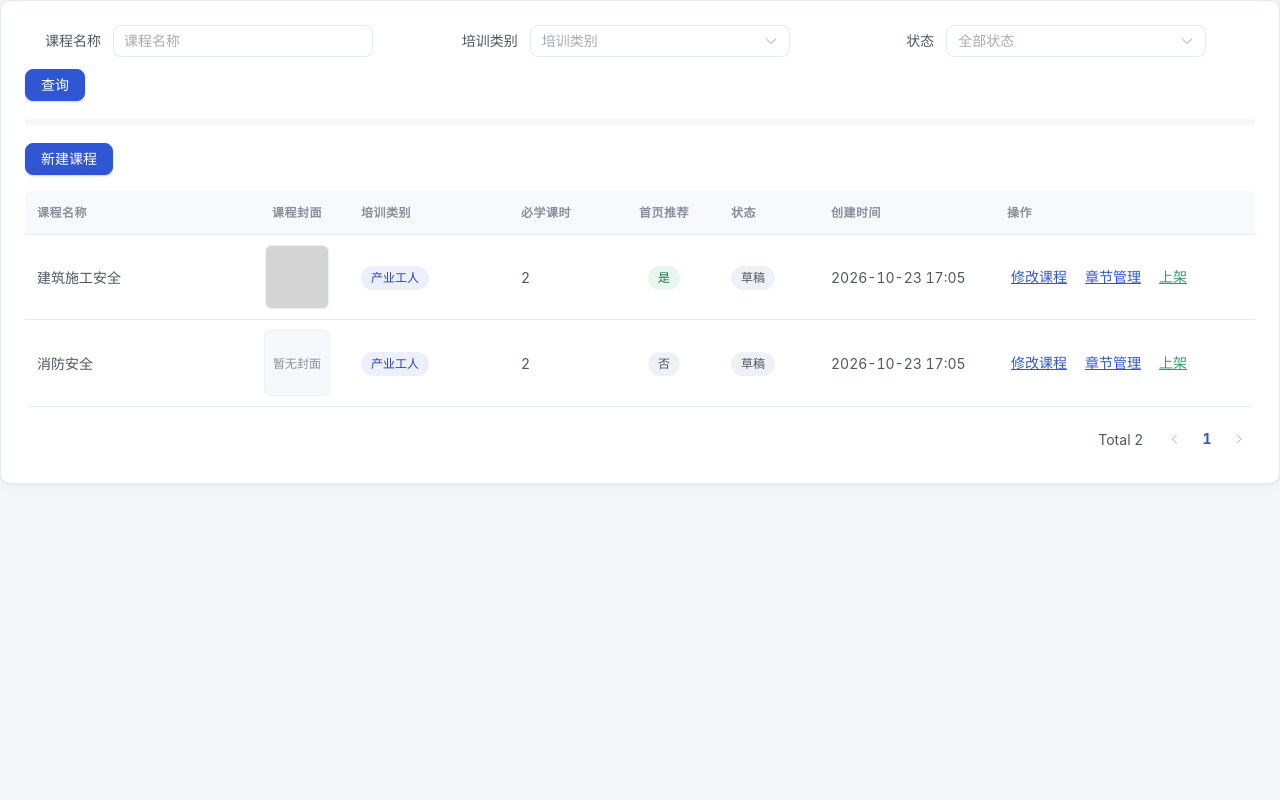
Test case: course presentation › blocks a stale 章节管理 entry when the latest detail is already published
Click the button "章节管理" in the row of "建筑施工安全" at {"x": 1113, "y": 277}, box [1081, 268, 1145, 286]
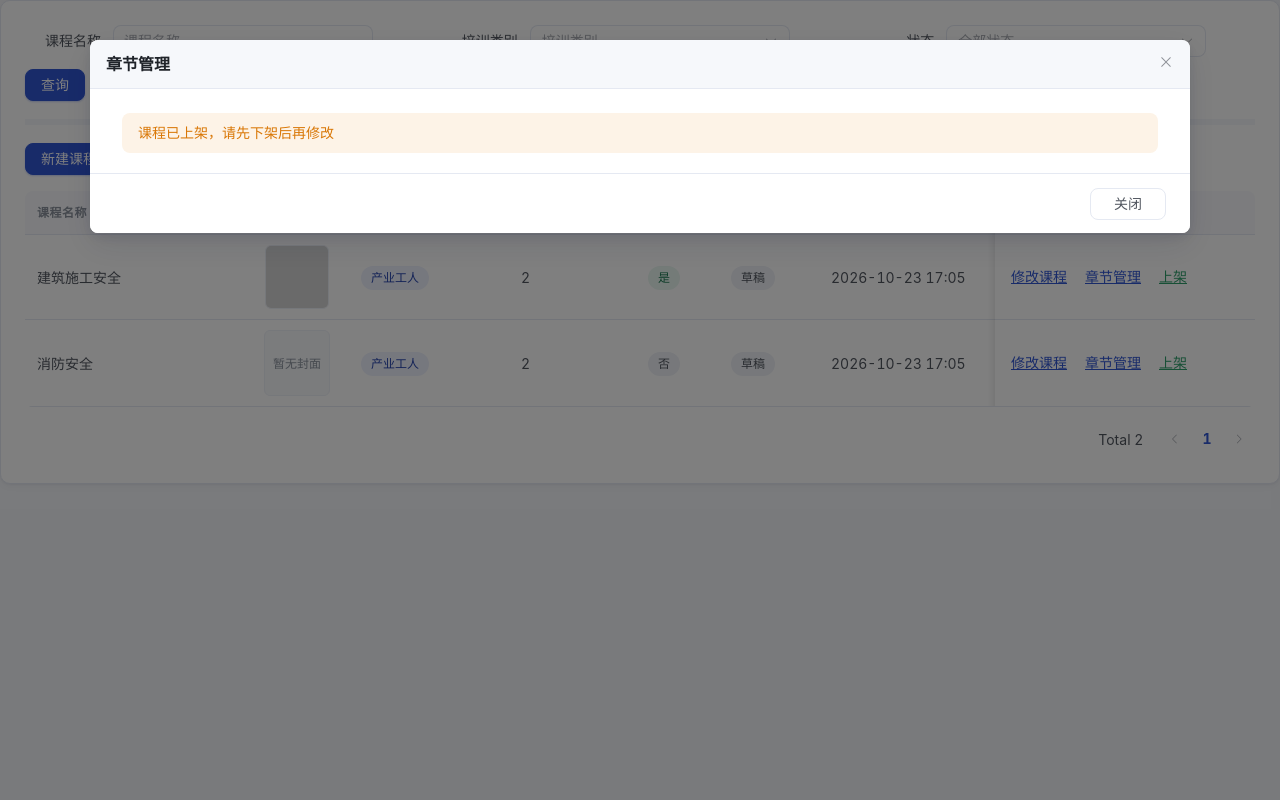
Expected: the element that starts with "课程名称" shows "请先下架后再修改", [138, 124, 334, 141]
